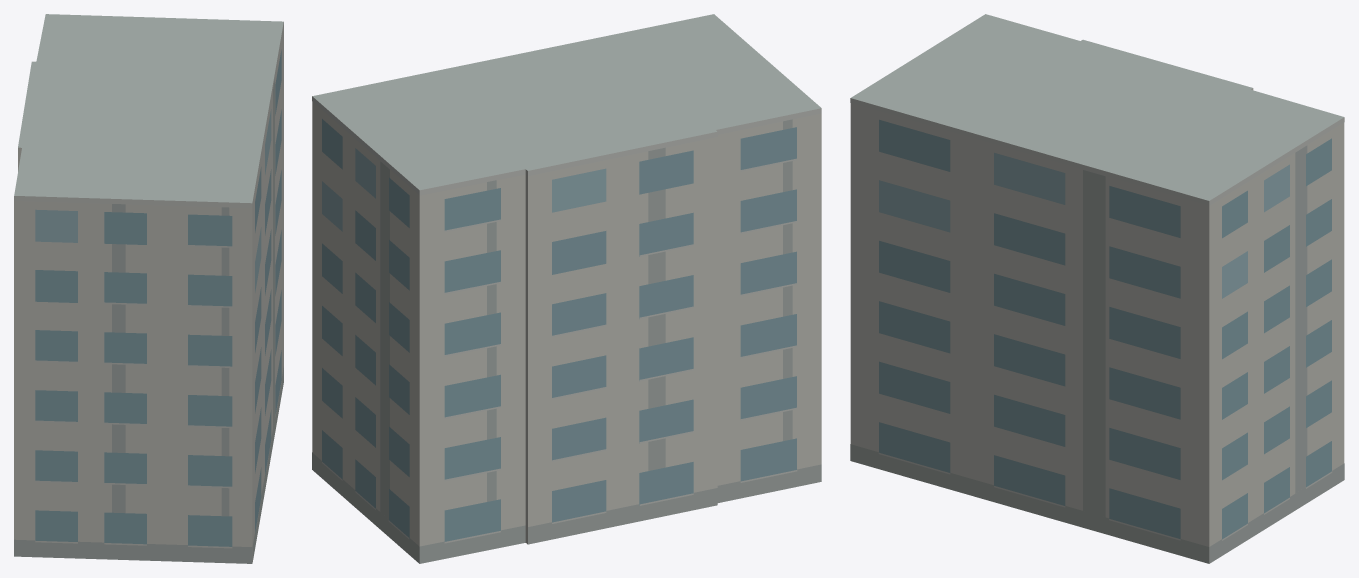
The model's file is survey-upis-32487880.glb.
3 views of the same model, side by side, from view 1: azimuth 30°, elevation 25°; view 2: azimuth 150°, elevation 25°; view 3: azimuth 270°, elevation 25° (orthographic). The views are drawn at different scales.
Visible parts, largest first — view 1: survey-upis-32487880.tmp; view 2: survey-upis-32487880.tmp; view 3: survey-upis-32487880.tmp.
Part boxes in pixels (x1,y1,x2,y2): survey-upis-32487880.tmp: (14, 14, 283, 563); survey-upis-32487880.tmp: (312, 14, 821, 563); survey-upis-32487880.tmp: (850, 14, 1344, 563).
Size of the model in its own units: 19.34 by 17.5 by 21.6.
